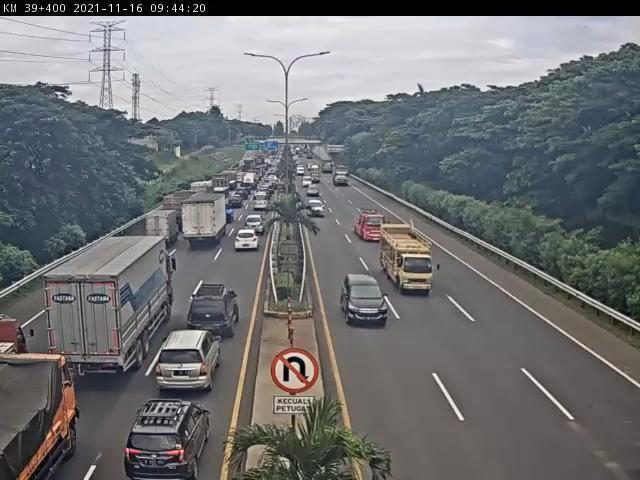car: (130, 392, 202, 474), (158, 327, 222, 392), (193, 277, 238, 334), (345, 277, 385, 322), (233, 229, 266, 254), (239, 216, 267, 230), (308, 198, 327, 216), (253, 196, 270, 212), (228, 194, 242, 212), (308, 184, 323, 196), (311, 171, 321, 185), (298, 166, 306, 177), (304, 178, 311, 185), (312, 165, 319, 170)
truck: (44, 238, 179, 378), (1, 355, 77, 480), (381, 218, 446, 297), (180, 192, 227, 247), (356, 208, 391, 246), (145, 211, 181, 245), (332, 166, 351, 190), (323, 163, 336, 176)
